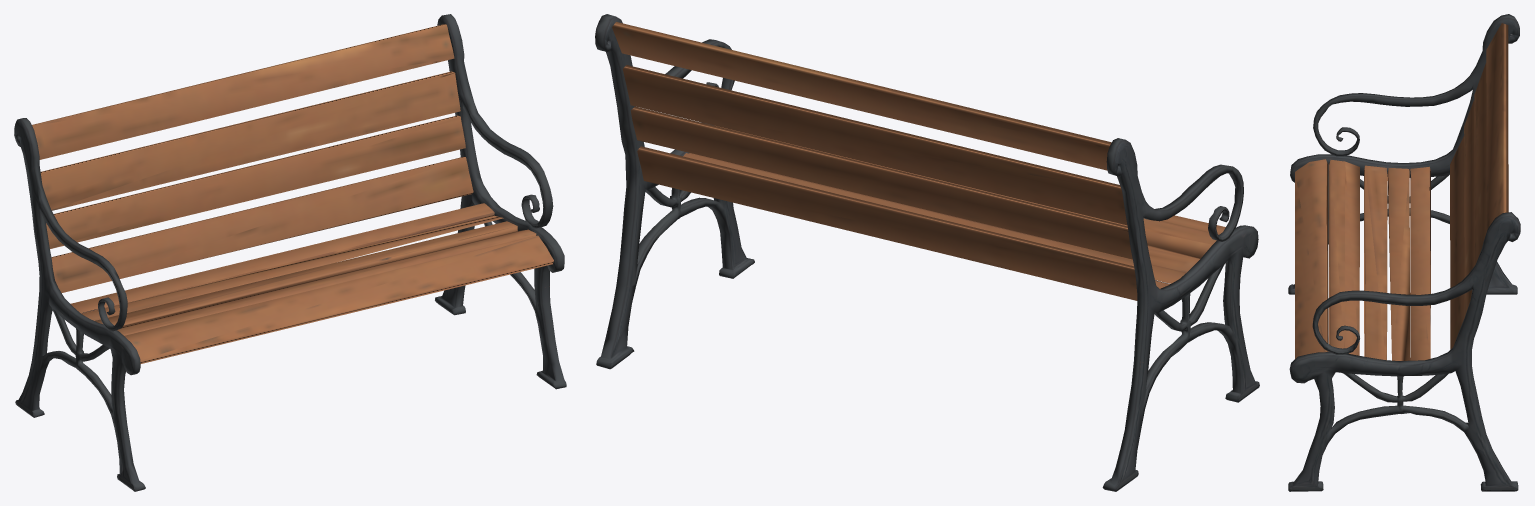
Rendered from bench.glb.
The picture shows the model from 3 angles, left to right: view 1: azimuth 30°, elevation 25°; view 2: azimuth 150°, elevation 25°; view 3: azimuth 270°, elevation 25°; orthographic projection. The views are drawn at different scales.
Visible parts, largest first — view 1: geometry_0; view 2: geometry_0; view 3: geometry_0.
Boxes of the visible parts, bbox=[...] form: geometry_0: bbox=[14, 14, 566, 491]; geometry_0: bbox=[595, 14, 1259, 491]; geometry_0: bbox=[1288, 14, 1520, 491].
Size of the model in its own units: 1 by 0.6415 by 0.4886.
Materials: 1 (1 with a texture image).
